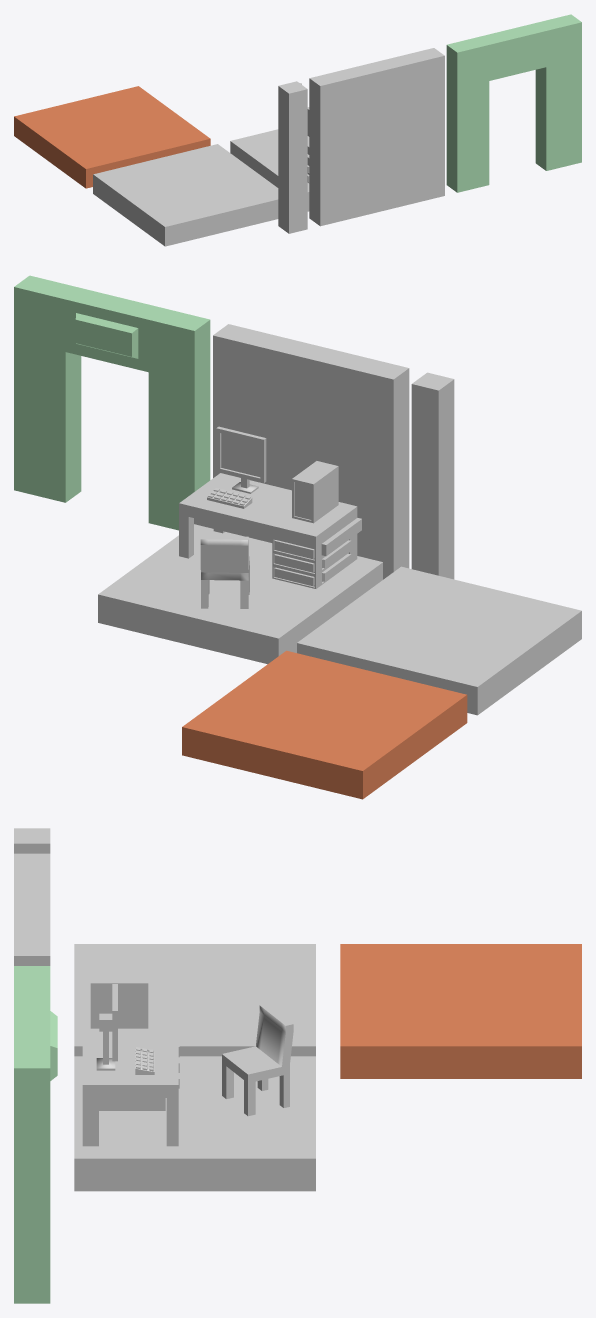
Rendered from tiles.dae.
3 views of the same model, one above another, from view 1: azimuth 30°, elevation 25°; view 2: azimuth 150°, elevation 25°; view 3: azimuth 270°, elevation 25° (orthographic). The views are drawn at different scales.
Visible parts, largest first — view 1: tile_wall, tile_exit, tile_floor, tile_fire, tile_wall_corner, tile_desk_1.1; view 2: tile_desk_1.1, tile_exit, tile_wall, tile_fire, tile_floor, tile_wall_corner; view 3: tile_desk_1.1, tile_fire, tile_floor, tile_exit, tile_wall, tile_wall_corner.
Boxes of the visible parts, left/top/right/bottom form: tile_wall: left=309, top=48, right=444, bottom=226; tile_exit: left=446, top=14, right=581, bottom=192; tile_floor: left=93, top=144, right=278, bottom=246; tile_fire: left=14, top=86, right=210, bottom=188; tile_wall_corner: left=278, top=81, right=307, bottom=233; tile_desk_1.1: left=230, top=83, right=309, bottom=211; tile_desk_1.1: left=98, top=426, right=382, bottom=664; tile_exit: left=14, top=275, right=210, bottom=530; tile_wall: left=213, top=324, right=409, bottom=579; tile_fire: left=182, top=650, right=467, bottom=799; tile_floor: left=297, top=566, right=581, bottom=715; tile_wall_corner: left=411, top=372, right=454, bottom=579; tile_desk_1.1: left=74, top=971, right=315, bottom=1191; tile_fire: left=340, top=944, right=581, bottom=1078; tile_floor: left=74, top=944, right=315, bottom=1056; tile_exit: left=14, top=966, right=57, bottom=1303; tile_wall: left=14, top=853, right=50, bottom=965; tile_wall_corner: left=14, top=828, right=50, bottom=853.
Bounding box in the file's own units: 6.4 × 4.7 × 2.15.
